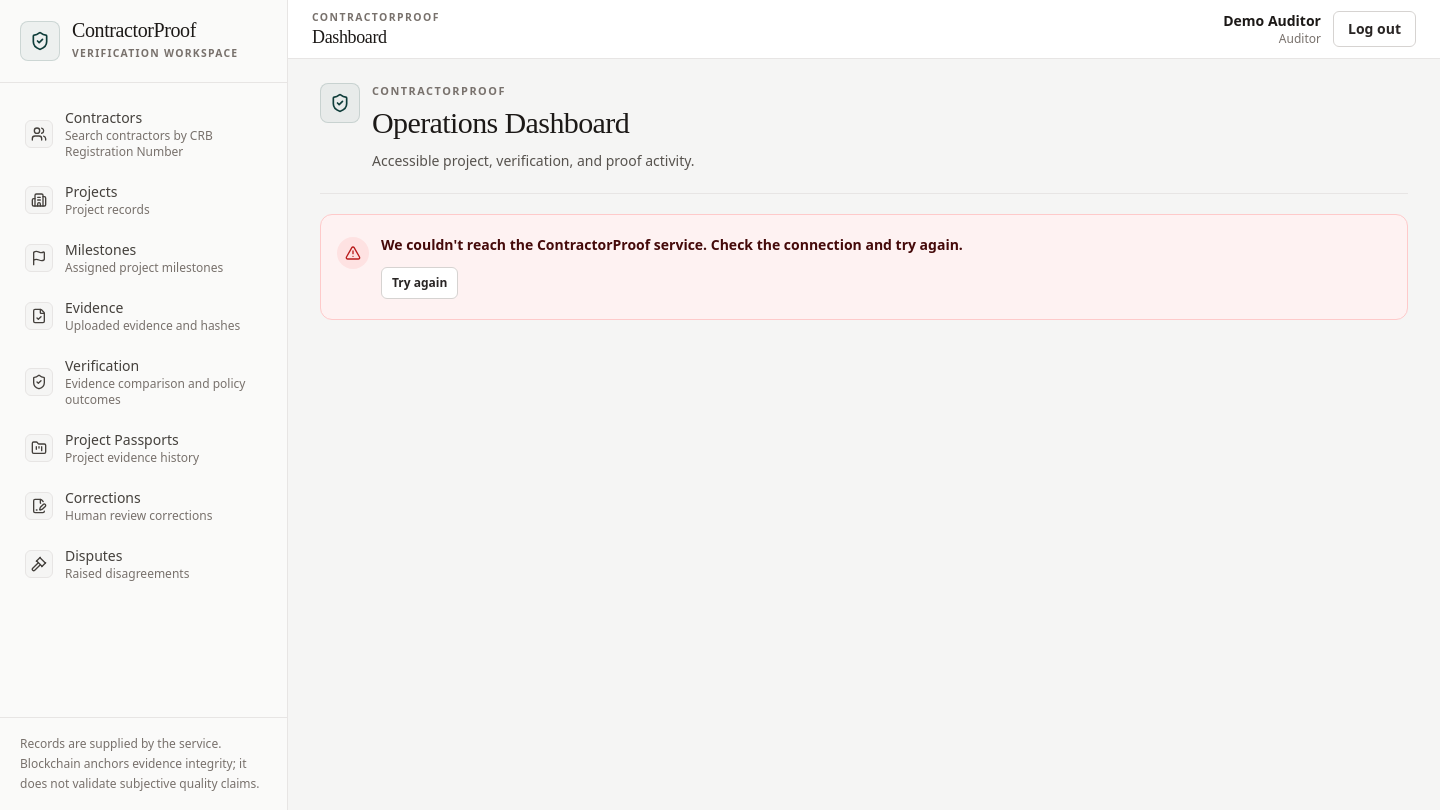
Test: logout › clears the session and returns to login
The image size is (1440, 810).
Expected: the heading "Operations Dashboard" is shown, [372,106,629,139]
Click the button "Log out" at (1374, 29), box [1333,11,1416,47]
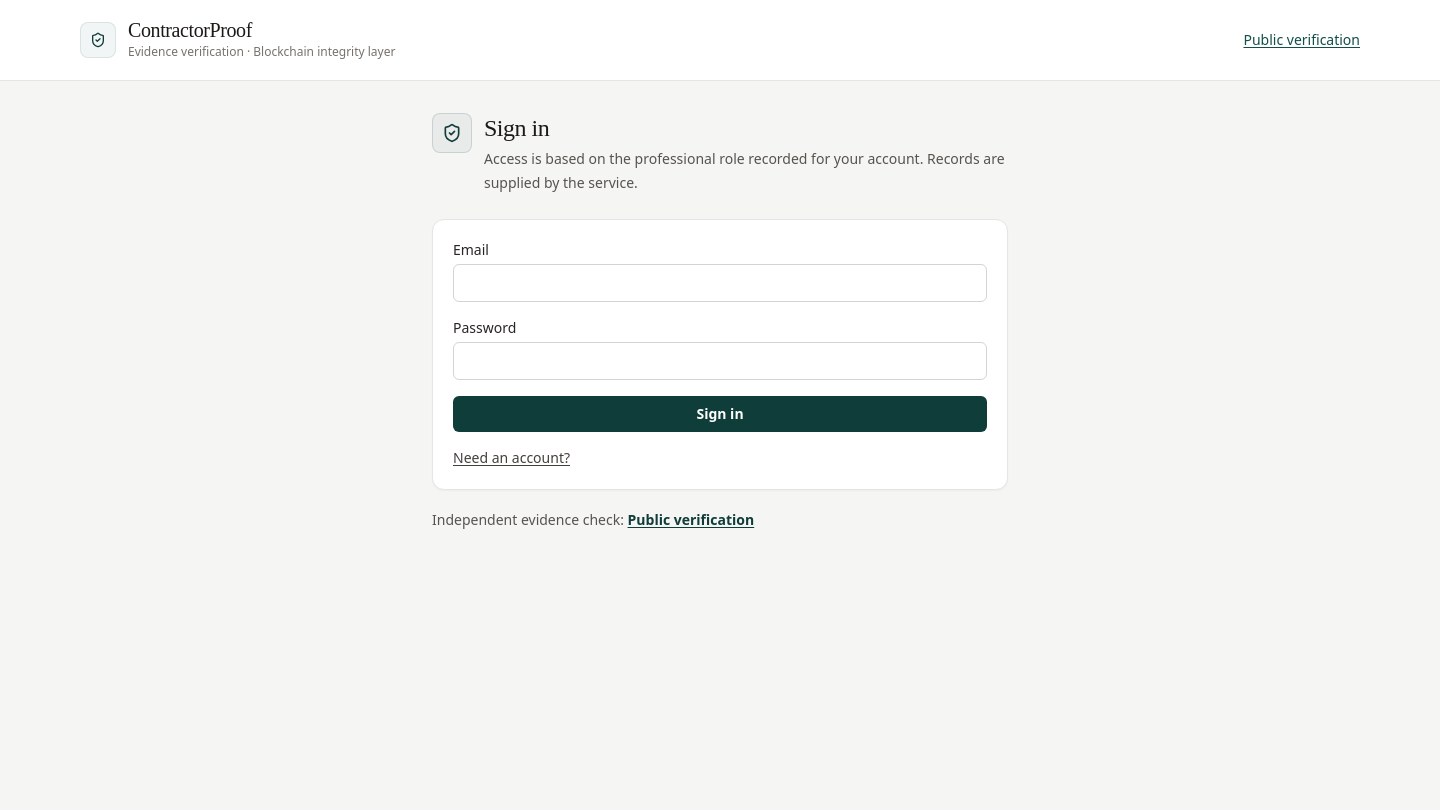
Expected: the heading "Sign in" is shown, [484,115,549,141]
